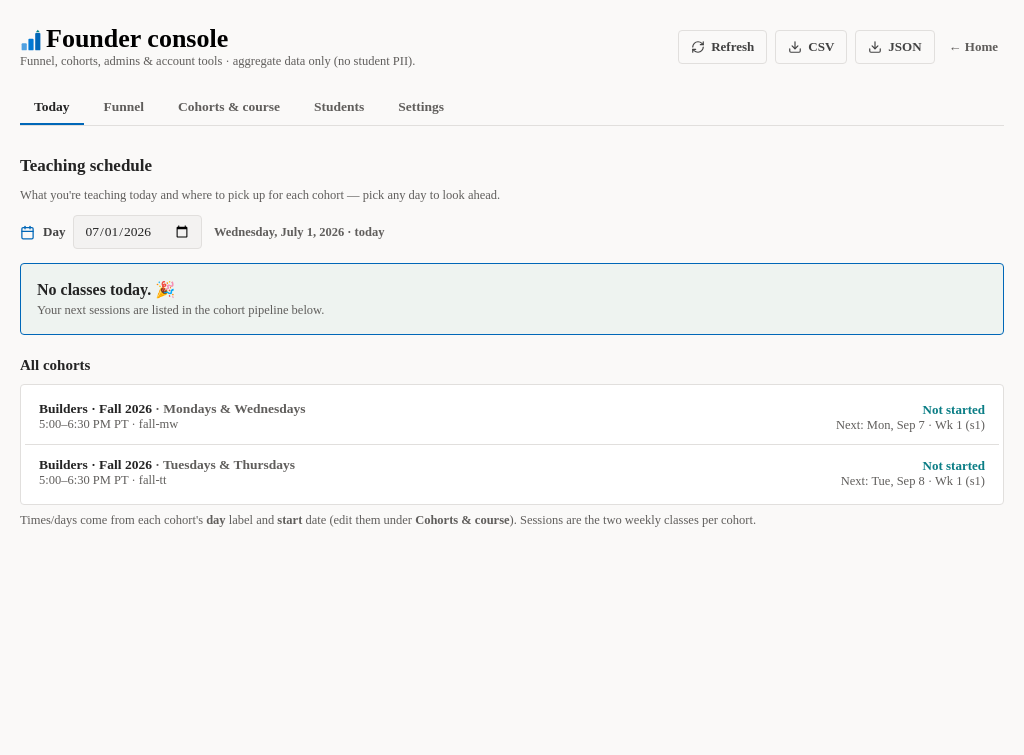
Test: FounderDashboard (account-gated) › a PENDING partner enrollment shows a 'Start onboarding' action (SPECS/005 T28)
Expected: the button "Funnel" is shown, [104,99,144,114]
Click the button "Students" at x=339, y=106, box [314,99,364,114]
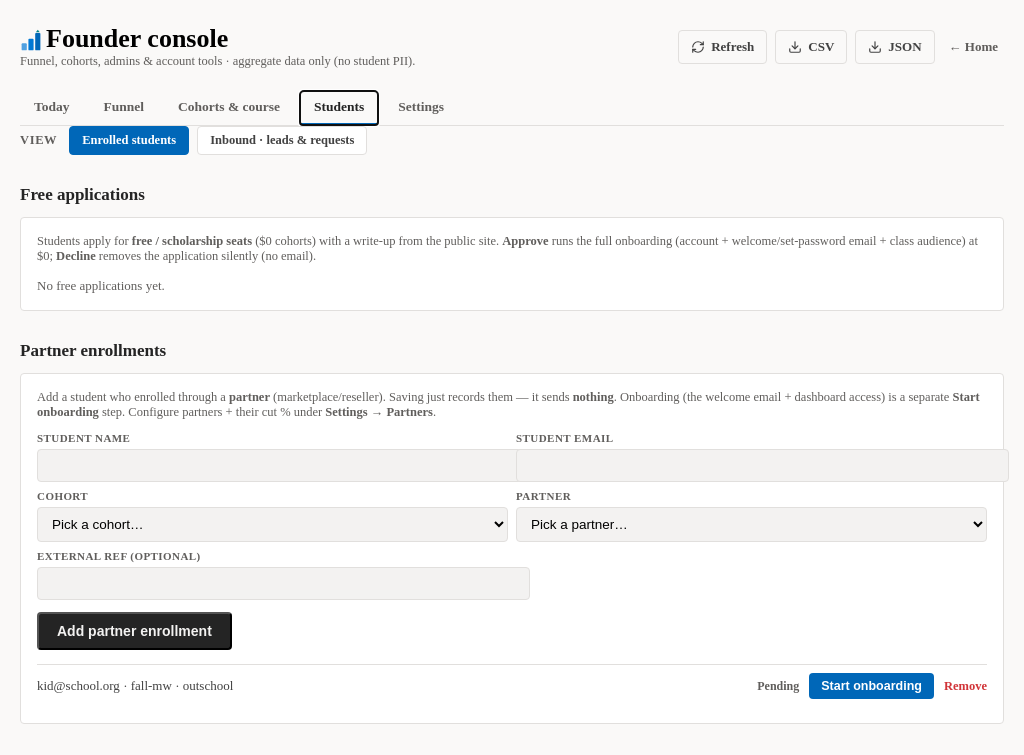
Now the button "Start onboarding" is shown, box [809,673,934,699]
Now the text "Pending" is shown, box [757,678,799,694]
